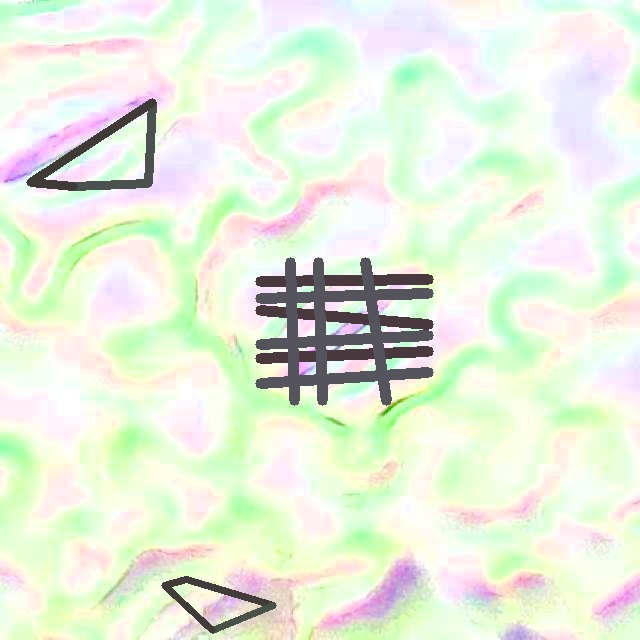open: (256, 257, 432, 404), (27, 99, 152, 189), (161, 576, 276, 633)
